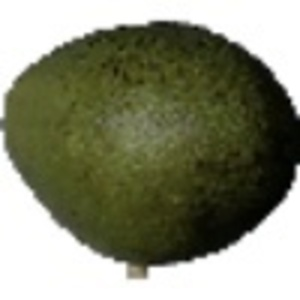abacate: (1, 16, 297, 264)
